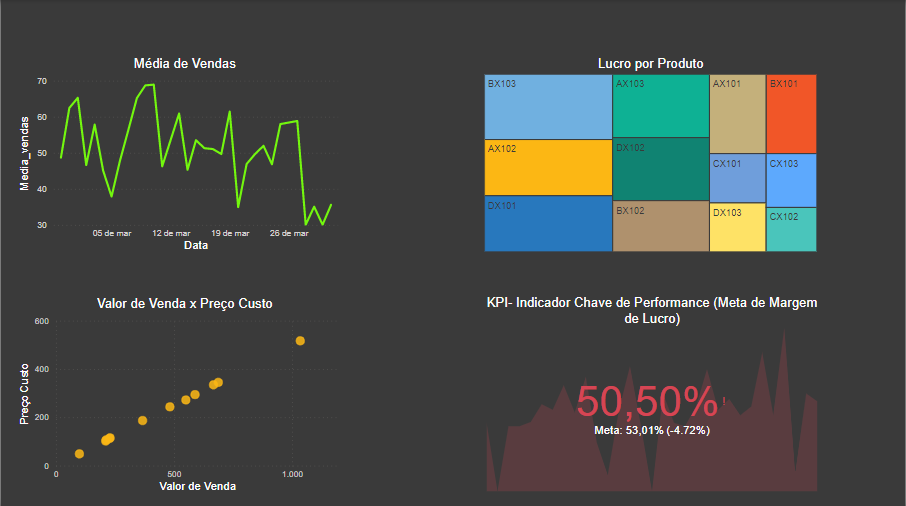

What the dashboard file says about the page in this screenshot:
{"tool":"powerbi","page":{"name":"kpi","canvas":[1280,720],"ordinal":0},"visuals":[{"type":"lineChart","title":"Média de Vendas","fields":{"Y":["Custos_exercicio_kpi.Media_vendas"],"Category":["Custos_exercicio_kpi.Data"]},"box":[20.2,79,480.4,280.5],"z":0},{"type":"treemap","fields":{"Values":["Sum(Custos_exercicio_kpi.Lucro)"],"Group":["Custos_exercicio_kpi.Produto"]},"box":[678.6,79,480.4,282.2],"z":1000},{"type":"scatterChart","title":"Valor de Venda x Preço Custo ","fields":{"Y":["Sum(Custos_exercicio_kpi.Preço Custo)"],"X":["Sum(Custos_exercicio_kpi.Valor de Venda)"],"Category":["Custos_exercicio_kpi.Produto"]},"box":[20.2,418.3,480.4,282.2],"z":2000},{"type":"kpi","title":"KPI- Indicador Chave de Performance   (Meta de Margem de Lucro) ","fields":{"TrendLine":["Custos_exercicio_kpi.Data"],"Goal":["Max(Custos_exercicio_kpi.Lucro)"],"Indicator":["Avg(Custos_exercicio_kpi.Lucro)1"]},"box":[681.2,418,478.2,283.3],"z":3000}]}

Visuals, with their boxes in screenshot pixels (x1, y1, x2, y2), scaled from the page's 1280x720 canvas onto the 906x506 screenshot:
"Média de Vendas" lineChart: (14, 56, 354, 253)
treemap - Sum(Custos_exercicio_kpi.Lucro) x Custos_exercicio_kpi.Produto: (480, 56, 820, 254)
"Valor de Venda x Preço Custo " scatterChart: (14, 294, 354, 492)
"KPI- Indicador Chave de Performance   (Meta de Margem de Lucro) " kpi: (482, 294, 821, 493)
